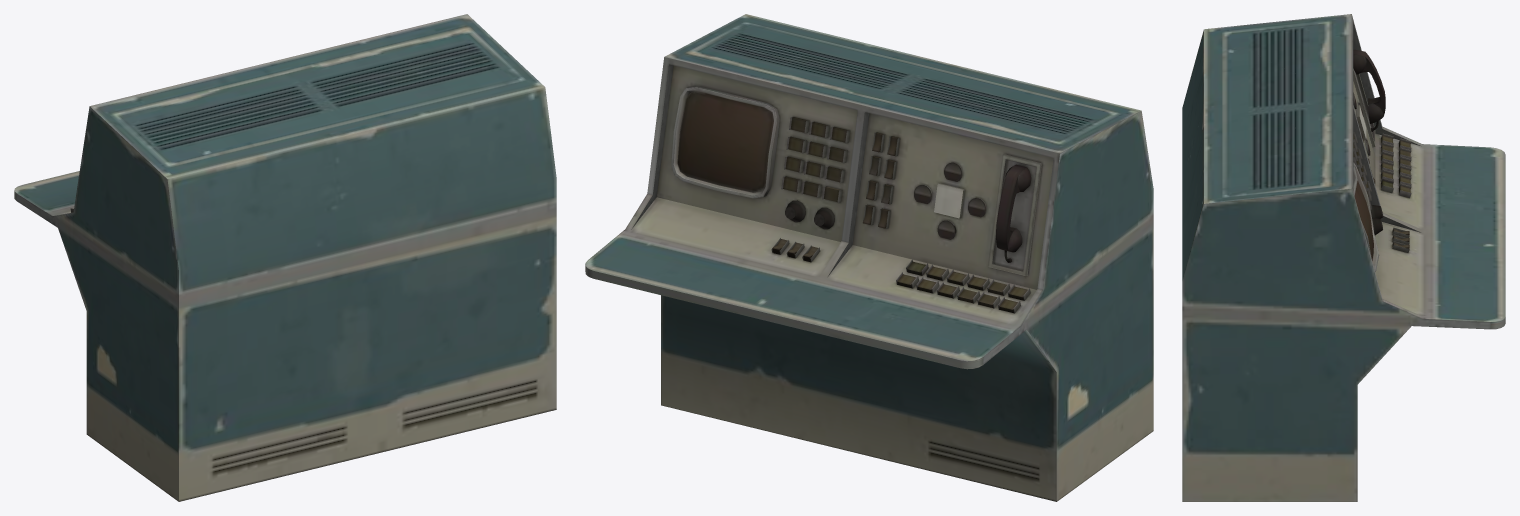
3 views of the same model, side by side, from view 1: azimuth 30°, elevation 25°; view 2: azimuth 150°, elevation 25°; view 3: azimuth 270°, elevation 25° (orthographic). The views are drawn at different scales.
Parts seen in each view (by area): view 1: body0_model0_lod0_mesh0; view 2: body0_model0_lod0_mesh0; view 3: body0_model0_lod0_mesh0.
Boxes of the visible parts, left/top/right/bottom form: body0_model0_lod0_mesh0: left=14, top=14, right=556, bottom=501; body0_model0_lod0_mesh0: left=585, top=14, right=1153, bottom=501; body0_model0_lod0_mesh0: left=1182, top=14, right=1505, bottom=501.
Bounding box in the file's own units: 80 × 66.86 × 62.51.
Materials: 1 (1 with a texture image).
